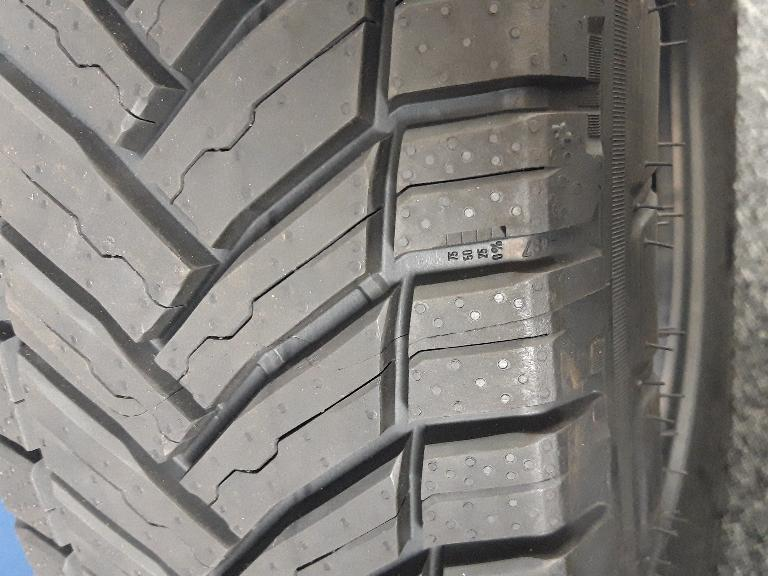temoin:100: (432, 224, 508, 251)
